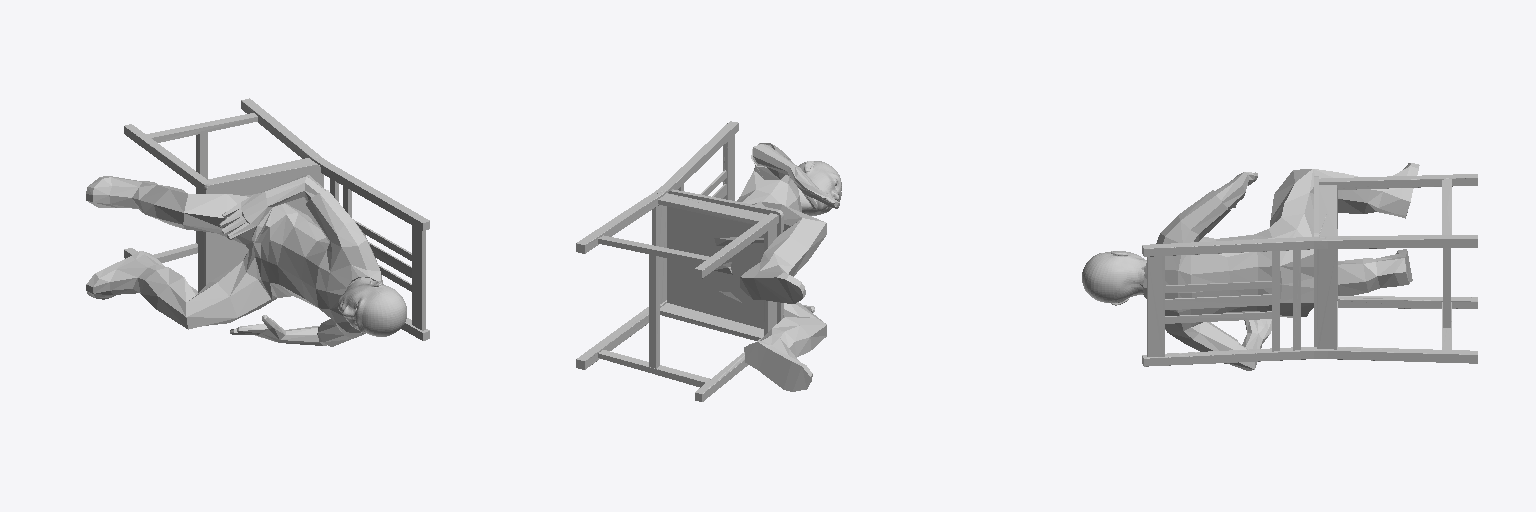
The model's file is honny.obj.
The picture shows the model from 3 angles: view 1: azimuth 30°, elevation 25°; view 2: azimuth 150°, elevation 25°; view 3: azimuth 270°, elevation 25°; orthographic projection.
Visible parts, largest first — view 1: Object.5, Object.1, Object.6, Object.2, Object.3; view 2: Object.1, Object.5, Object.2, Object.6; view 3: Object.1, Object.5, Object.6, Object.3, Object.2.
Boxes of the visible parts, <box> form: Object.5: <box>86,176,383,346</box>; Object.1: <box>124,98,429,340</box>; Object.6: <box>338,280,406,336</box>; Object.2: <box>219,175,325,241</box>; Object.3: <box>230,315,326,345</box>; Object.1: <box>576,121,783,401</box>; Object.5: <box>714,143,826,391</box>; Object.2: <box>753,144,839,208</box>; Object.6: <box>798,161,841,215</box>; Object.1: <box>1142,174,1477,366</box>; Object.5: <box>1143,163,1419,363</box>; Object.6: <box>1082,251,1146,305</box>; Object.3: <box>1227,319,1271,370</box>; Object.2: <box>1214,172,1257,208</box>.
Size of the model in its own units: 222 by 178 by 358.